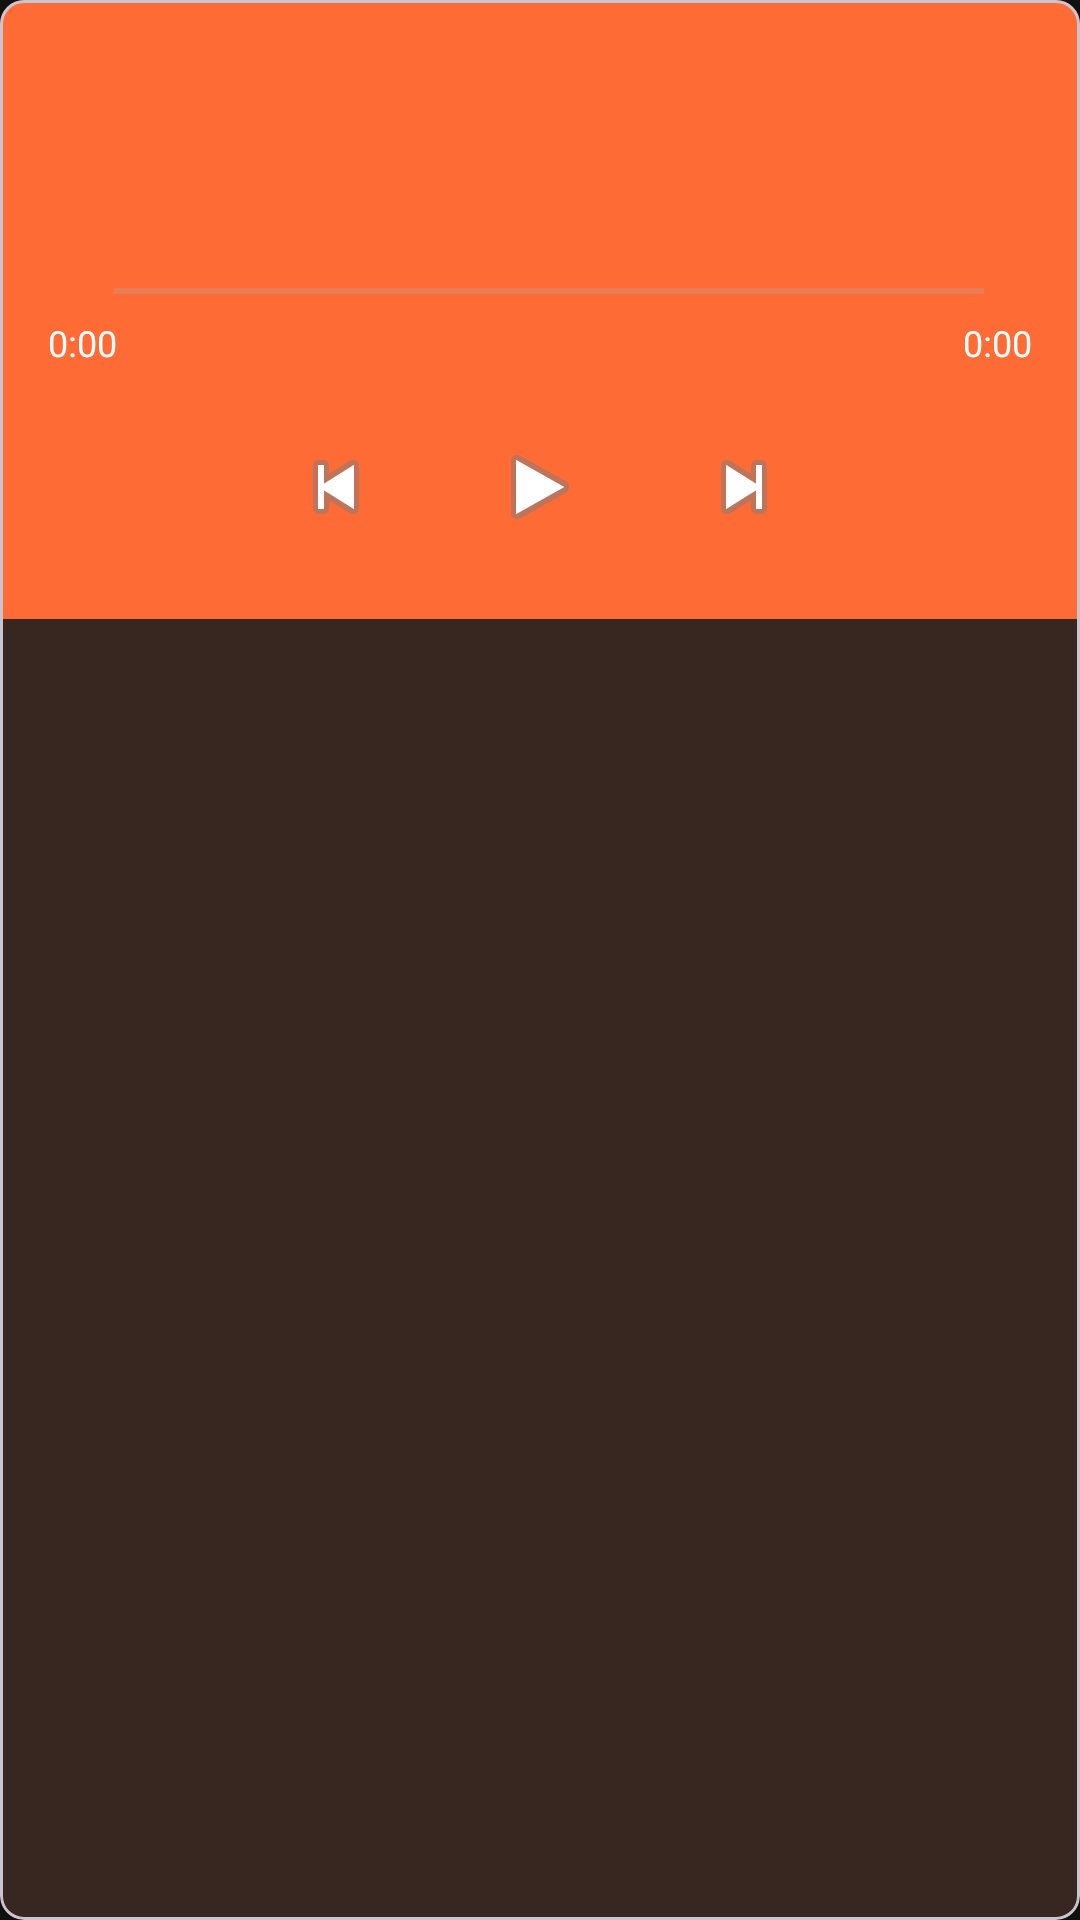

Point at icon controls on the screen. Image size 1080px×1920px, points as point (x, y).
Next: point (744, 487)
Play/Pause: point (540, 487)
Previous: point (336, 487)
